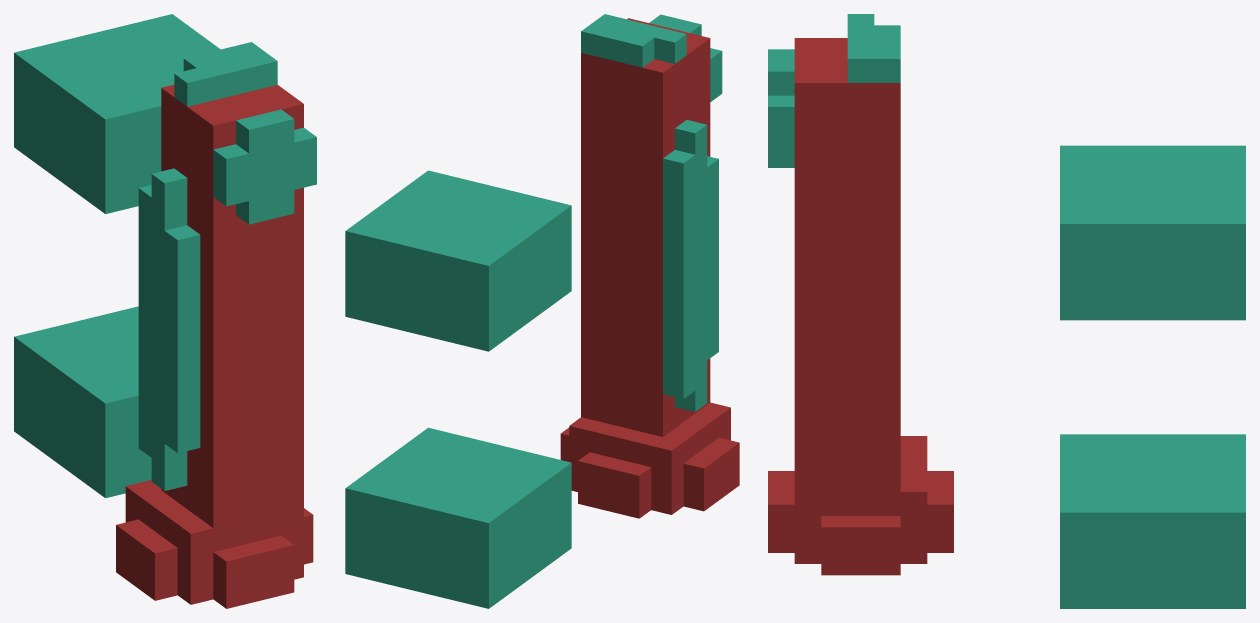
Rendered from first_voxel_model.gltf.
The picture shows the model from 3 angles, left to right: view 1: azimuth 30°, elevation 25°; view 2: azimuth 150°, elevation 25°; view 3: azimuth 270°, elevation 25°; orthographic projection. The views are drawn at different scales.
Parts seen in each view (by area): view 1: Layer.1, Layer.4; view 2: Layer.1, Layer.4; view 3: Layer.1, Layer.4.
Part boxes in pixels (x1,y1,x2,y2): Layer.1: (14,42,316,608); Layer.4: (14,14,220,213); Layer.1: (345,14,739,608); Layer.4: (345,170,571,351); Layer.1: (768,14,1245,608); Layer.4: (1060,145,1245,320).
Bounding box in the file's own units: 10 × 21 × 18.
1 material, 1 textured.
